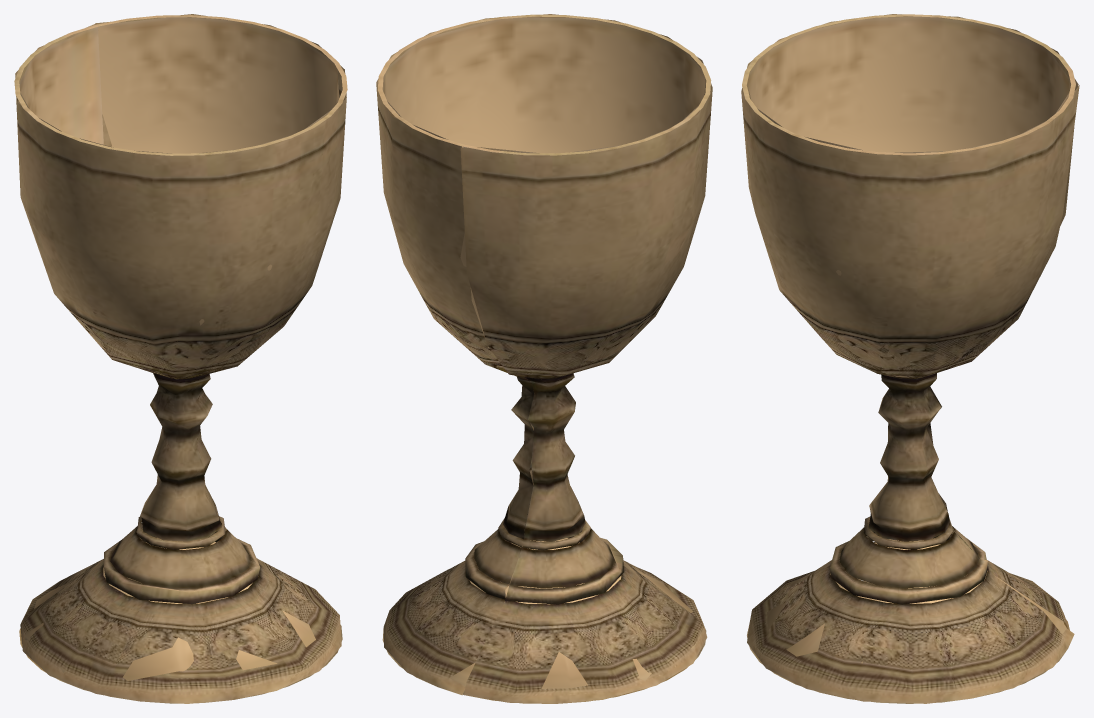
Rendered from brass_goblet.glb.
The picture shows the model from 3 angles, left to right: view 1: azimuth 30°, elevation 25°; view 2: azimuth 150°, elevation 25°; view 3: azimuth 270°, elevation 25°; orthographic projection.
Visible parts, largest first — view 1: brass_goblet_01; view 2: brass_goblet_01; view 3: brass_goblet_01.
Part boxes in pixels (bbox=[...]): brass_goblet_01: bbox=[14, 14, 347, 703]; brass_goblet_01: bbox=[376, 14, 712, 703]; brass_goblet_01: bbox=[741, 14, 1079, 703].
Size of the model in its own units: 0.1502 by 0.272 by 0.1515.
1 material, 1 textured.
